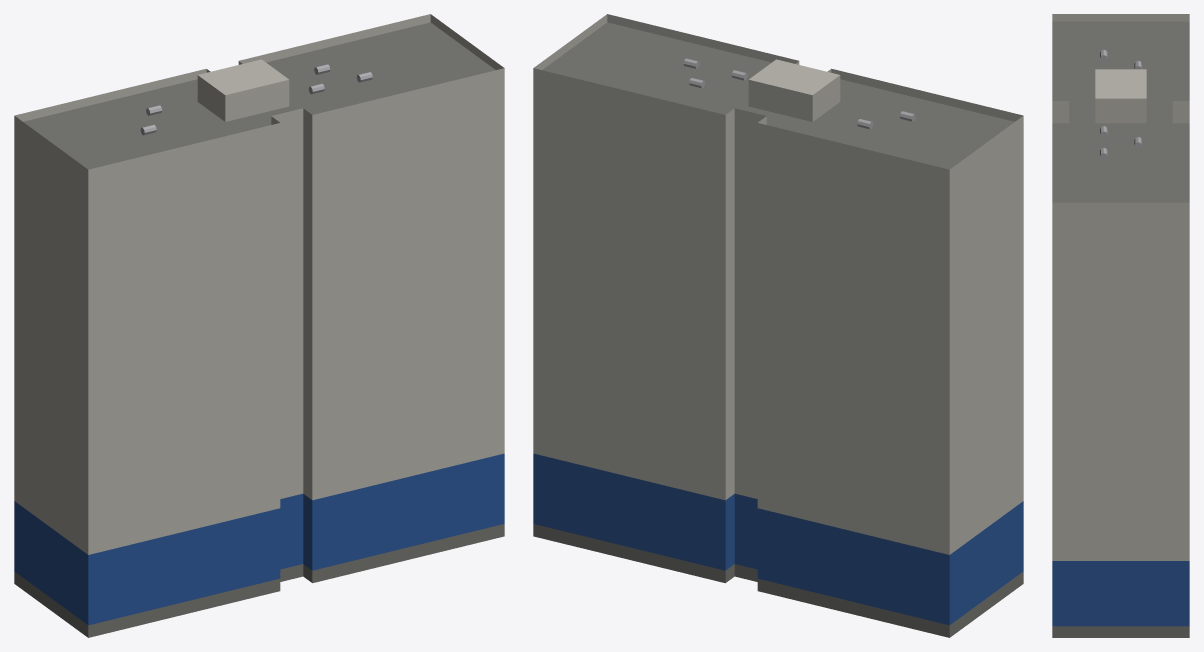
3 renders of one model, left to right at view 1: azimuth 30°, elevation 25°; view 2: azimuth 150°, elevation 25°; view 3: azimuth 270°, elevation 25°, orthographic. The views are drawn at different scales.
Parts seen in each view (by area): view 1: TW_T3_15F_LOD0; view 2: TW_T3_15F_LOD0; view 3: TW_T3_15F_LOD0.
Part boxes in pixels (x1,y1,x2,y2): TW_T3_15F_LOD0: (14, 14, 504, 637); TW_T3_15F_LOD0: (533, 14, 1023, 637); TW_T3_15F_LOD0: (1052, 14, 1189, 637).
Size of what is drawn, in the model's own units: 52 by 58.1 by 16.
